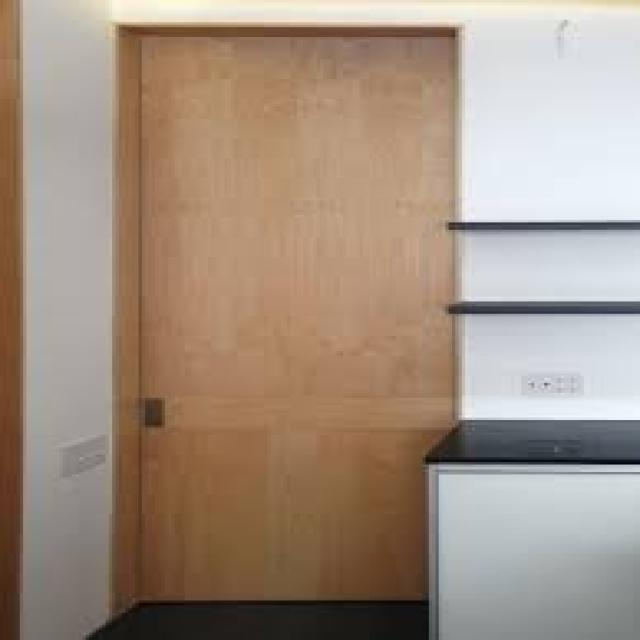door: (117, 25, 460, 608)
